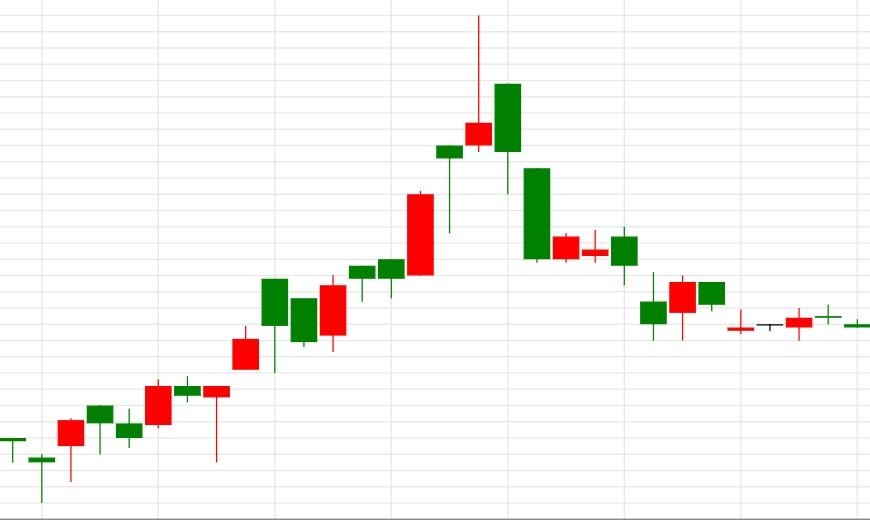shooting_star_fall: (115, 15, 493, 464)
